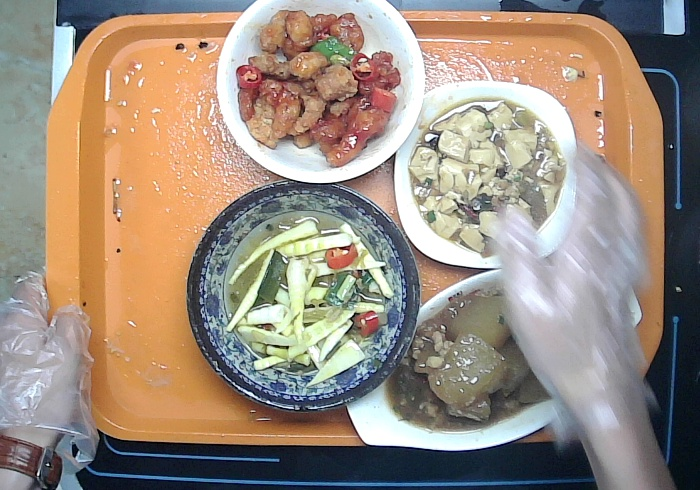ZNLD-Qing_Hua_Wan: (179, 174, 432, 417)
ZNLD-Si_Fang_Wan: (390, 75, 585, 276)
ZNLD-Tang_Wan: (213, 1, 435, 185)
ZNLD-Yu_Pan: (340, 264, 645, 452)
